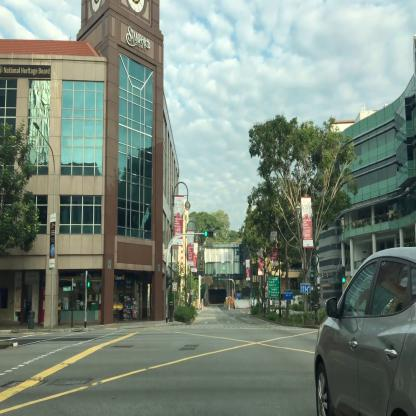green_traffic_light: (204, 230, 212, 236), (342, 267, 345, 282)
